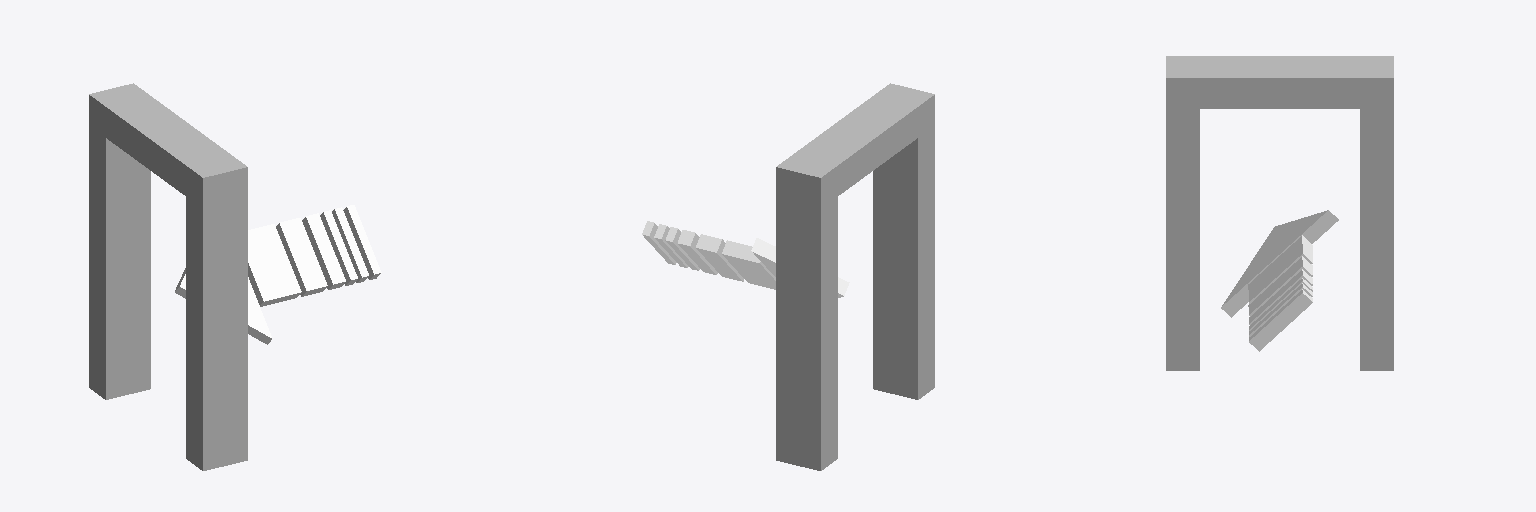
The model's file is door.obj.
The picture shows the model from 3 angles: view 1: azimuth 30°, elevation 25°; view 2: azimuth 150°, elevation 25°; view 3: azimuth 270°, elevation 25°; orthographic projection.
Parts seen in each view (by area): view 1: Doorframe_Cube, Box, Box2, Box3, Box1, Box6, Box4, Box5; view 2: Doorframe_Cube, Box, Box2, Box1, Box3; view 3: Doorframe_Cube, Box1, Box, Box6, Box2, Box3.
Boxes of the visible parts, <box> form: Doorframe_Cube: <box>89,83,247,470</box>; Box: <box>248,224,301,306</box>; Box2: <box>276,218,327,296</box>; Box3: <box>302,213,345,289</box>; Box1: <box>175,268,271,344</box>; Box6: <box>343,205,381,279</box>; Box4: <box>320,210,357,285</box>; Box5: <box>332,207,368,282</box>; Doorframe_Cube: <box>776,83,934,470</box>; Box: <box>722,240,775,289</box>; Box2: <box>696,234,743,281</box>; Box1: <box>751,238,849,297</box>; Box3: <box>678,230,717,274</box>; Doorframe_Cube: <box>1166,56,1393,370</box>; Box1: <box>1221,210,1338,317</box>; Box: <box>1248,235,1312,303</box>; Box6: <box>1249,289,1312,351</box>; Box2: <box>1248,256,1312,316</box>; Box3: <box>1249,269,1312,324</box>.
Size of the model in its own units: 1.67 by 2.12 by 1.5.